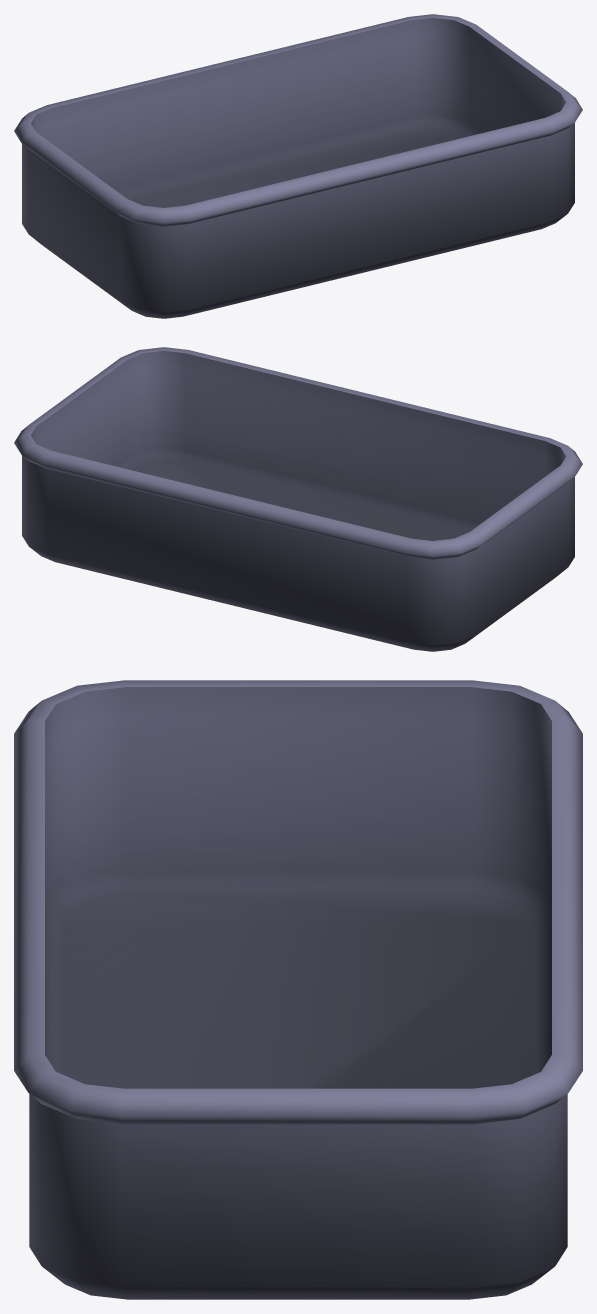
The model's file is m_Loaf_CakePan02.fbx.
The picture shows the model from 3 angles, top to bottom: view 1: azimuth 30°, elevation 25°; view 2: azimuth 150°, elevation 25°; view 3: azimuth 270°, elevation 25°; orthographic projection. The views are drawn at different scales.
Parts seen in each view (by area): view 1: m_Loaf_CakePan02; view 2: m_Loaf_CakePan02; view 3: m_Loaf_CakePan02.
Part boxes in pixels (x1,y1,x2,y2): m_Loaf_CakePan02: [14, 14, 582, 318]; m_Loaf_CakePan02: [14, 347, 582, 651]; m_Loaf_CakePan02: [14, 680, 582, 1299].
Bounding box in the file's own units: 31.96 × 7.49 × 17.96.
